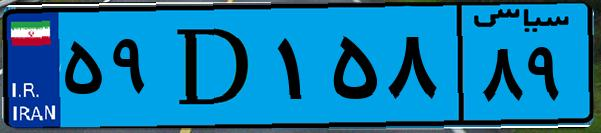1: (270, 28, 330, 110)
5: (330, 28, 385, 110), (57, 26, 110, 100)
8: (385, 28, 445, 110), (475, 38, 525, 113)
9: (525, 38, 570, 115), (110, 28, 158, 98)
D: (158, 12, 270, 120)
